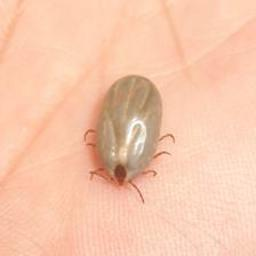Rhipicephalus sanguineus: (81, 75, 175, 203)
